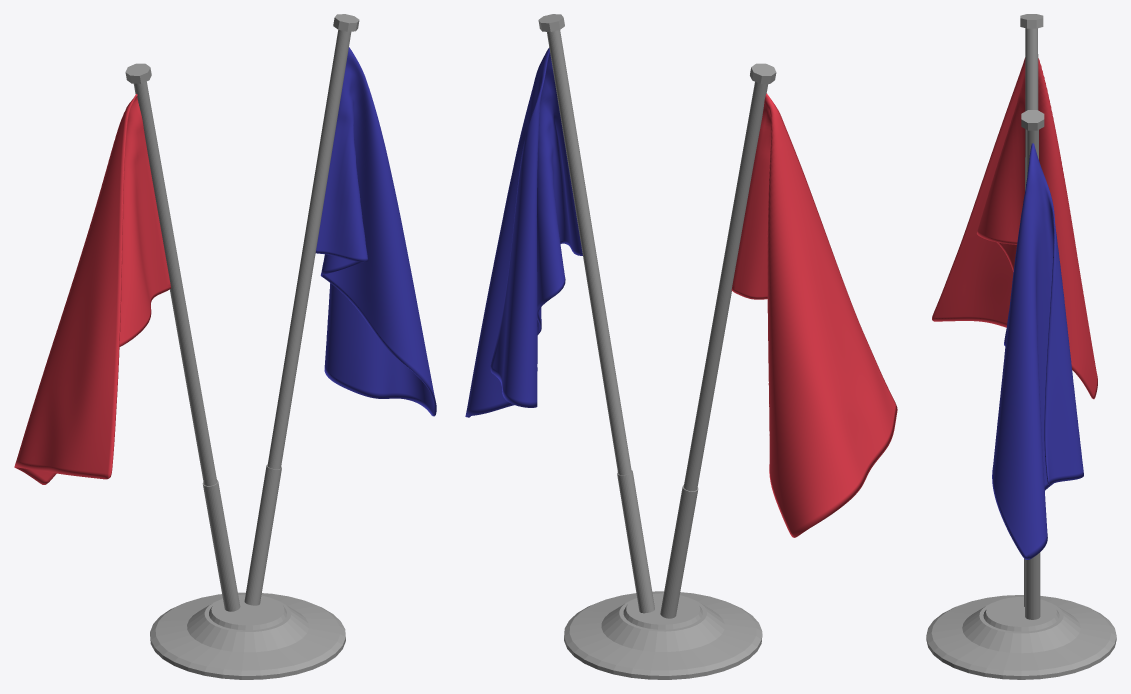
File: flag.fbx
3 renders of one model, left to right at view 1: azimuth 30°, elevation 25°; view 2: azimuth 150°, elevation 25°; view 3: azimuth 270°, elevation 25°, orthographic. The views are drawn at different scales.
Parts seen in each view (by area): view 1: Plane; view 2: Plane; view 3: Plane.
Boxes of the visible parts, x1,y1,x2,y2 form: Plane: (14, 14, 436, 679); Plane: (465, 14, 897, 679); Plane: (926, 14, 1116, 679).
Bounding box in the file's own units: 305 × 431 × 129.
